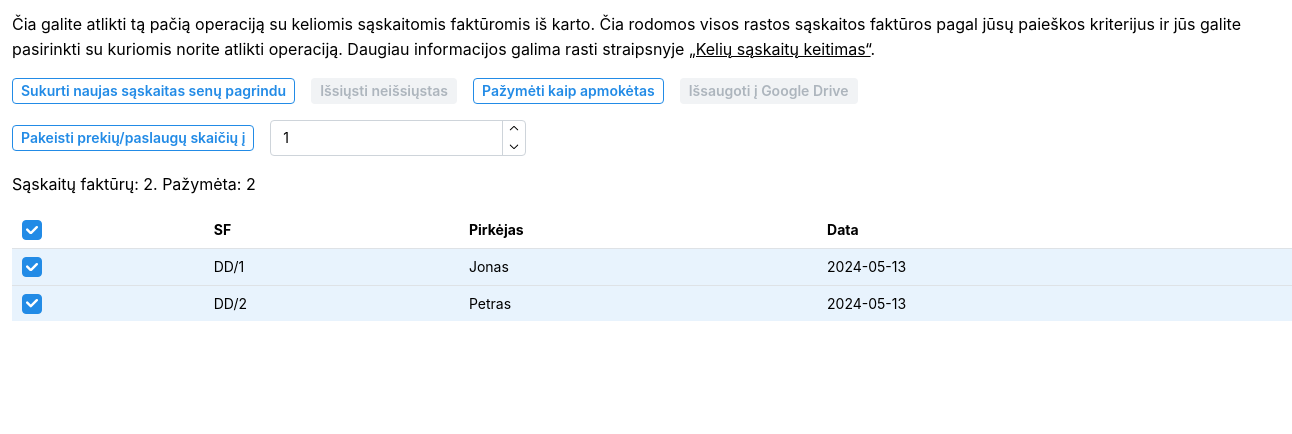
mark selected is paid
Click the button labelled "Pažymėti kaip apmokėtas".
click(568, 91)  # box [473,78,664,104]
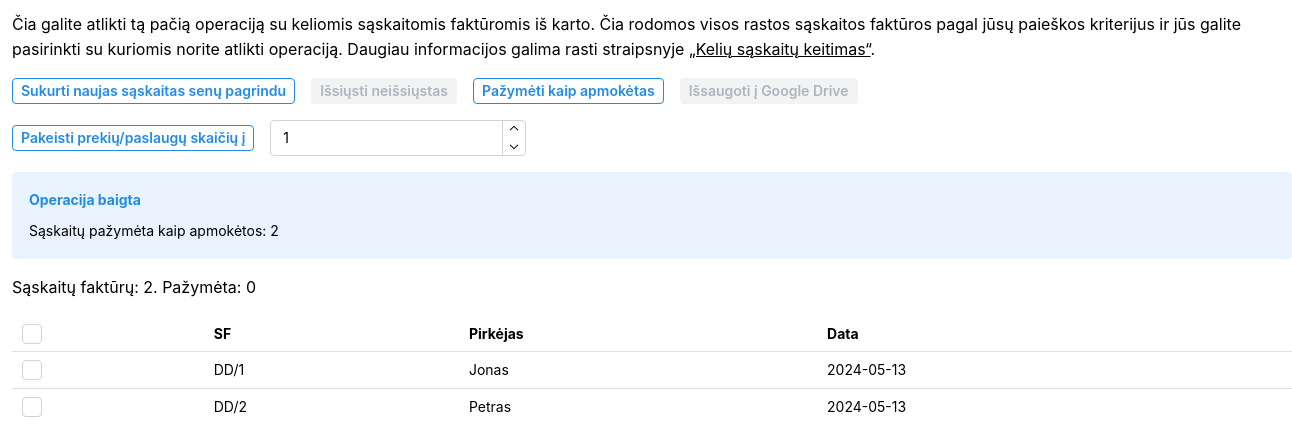
Expected: the message with test id "operation-result" shows "Sąskaitų pažymėta kaip apmokėtos: 2", [29,222,279,239]
